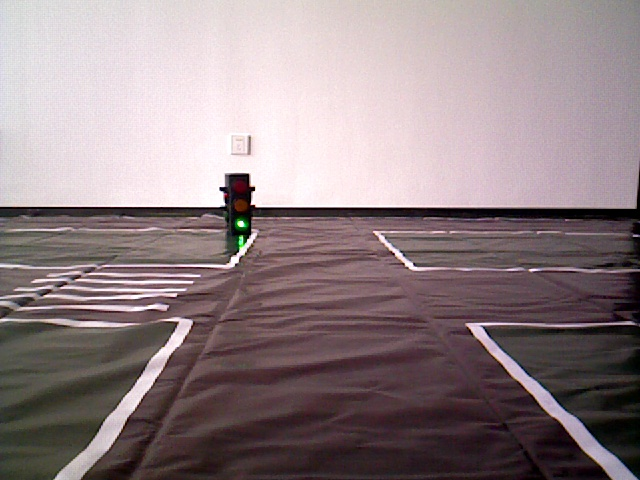green: (225, 177, 252, 229)
